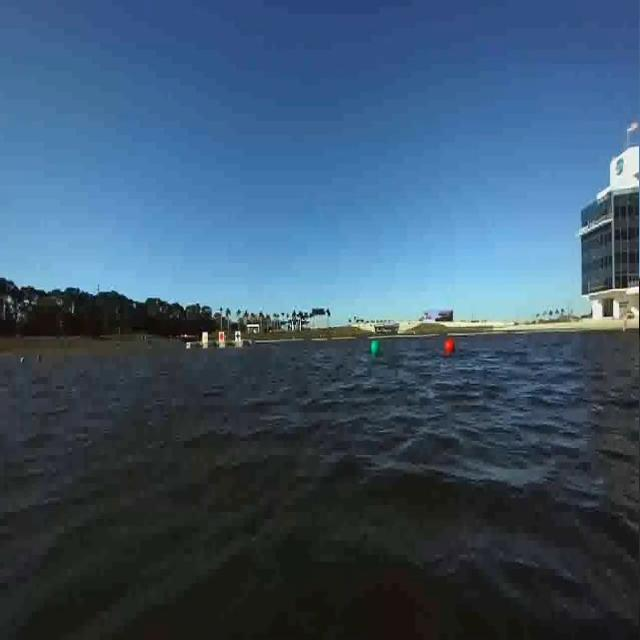green-buoy: (368, 340, 380, 358)
red-buoy: (444, 338, 454, 352)
